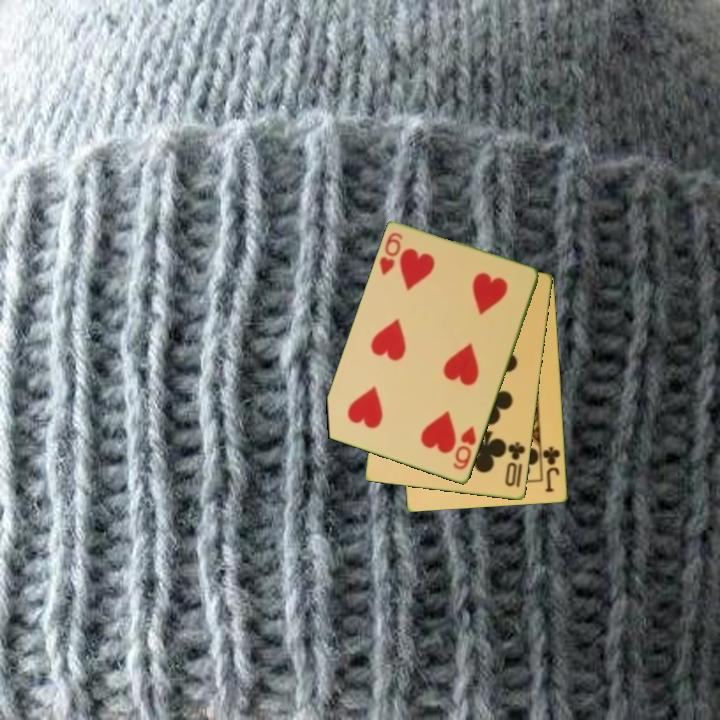10c: (502, 439, 528, 489)
6h: (376, 229, 406, 279), (450, 423, 479, 473)
Jc: (539, 443, 563, 496)
